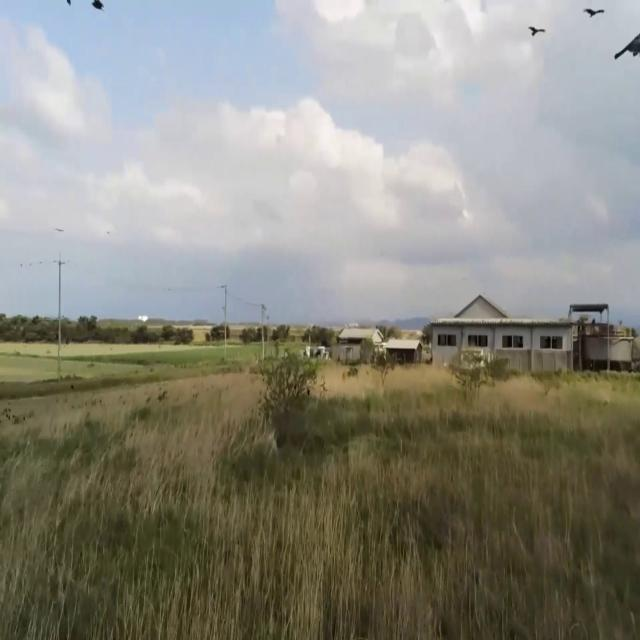bird: (614, 9, 640, 87), (582, 0, 606, 34), (527, 13, 545, 49), (91, 0, 104, 24)
